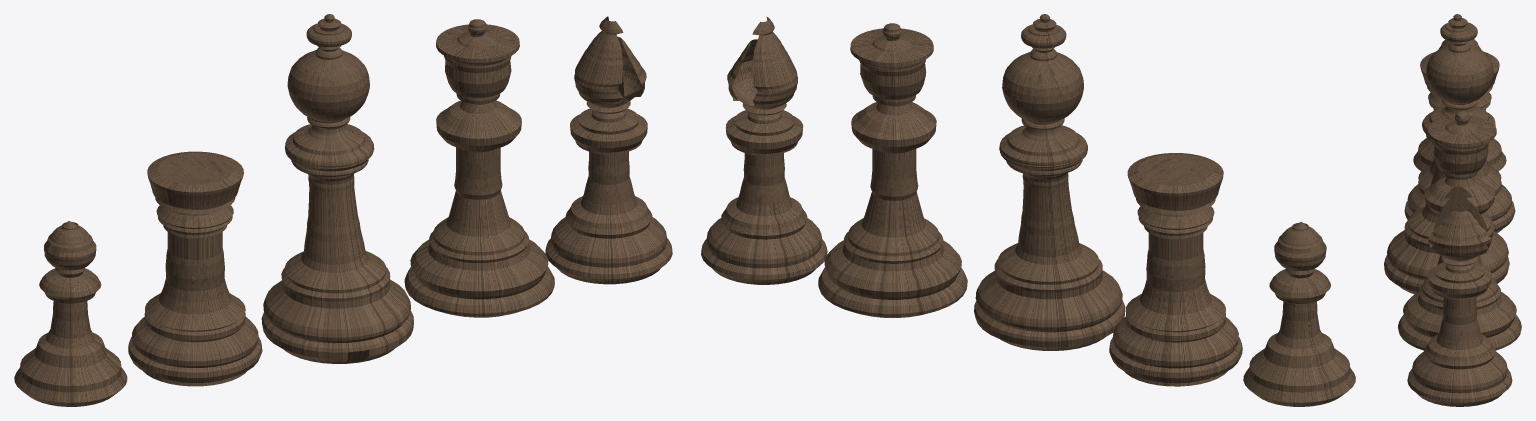
The model's file is chess.glb.
3 renders of one model, left to right at view 1: azimuth 30°, elevation 25°; view 2: azimuth 150°, elevation 25°; view 3: azimuth 270°, elevation 25°, orthographic. The views are drawn at different scales.
Visible parts, largest first — view 1: King, Queen, Rook, Bishop, Pawn; view 2: King, Queen, Rook, Bishop, Pawn; view 3: Bishop, King, Queen, Rook, Pawn.
Part boxes in pixels (x1,y1,x2,y2): King: [261, 14, 413, 363]; Queen: [404, 19, 554, 317]; Rook: [128, 151, 262, 386]; Bishop: [545, 16, 672, 284]; Pawn: [14, 221, 127, 406]; King: [974, 14, 1125, 350]; Queen: [818, 23, 967, 317]; Rook: [1109, 153, 1242, 386]; Bishop: [701, 17, 827, 284]; Pawn: [1243, 221, 1355, 406]; Bishop: [1407, 186, 1512, 406]; King: [1384, 14, 1509, 294]; Queen: [1398, 110, 1521, 350]; Rook: [1404, 52, 1515, 233]; Pawn: [1413, 39, 1506, 171].
Bounding box in the file's own units: 4.64 × 2.24 × 1.05.
5 materials, 5 textured.
